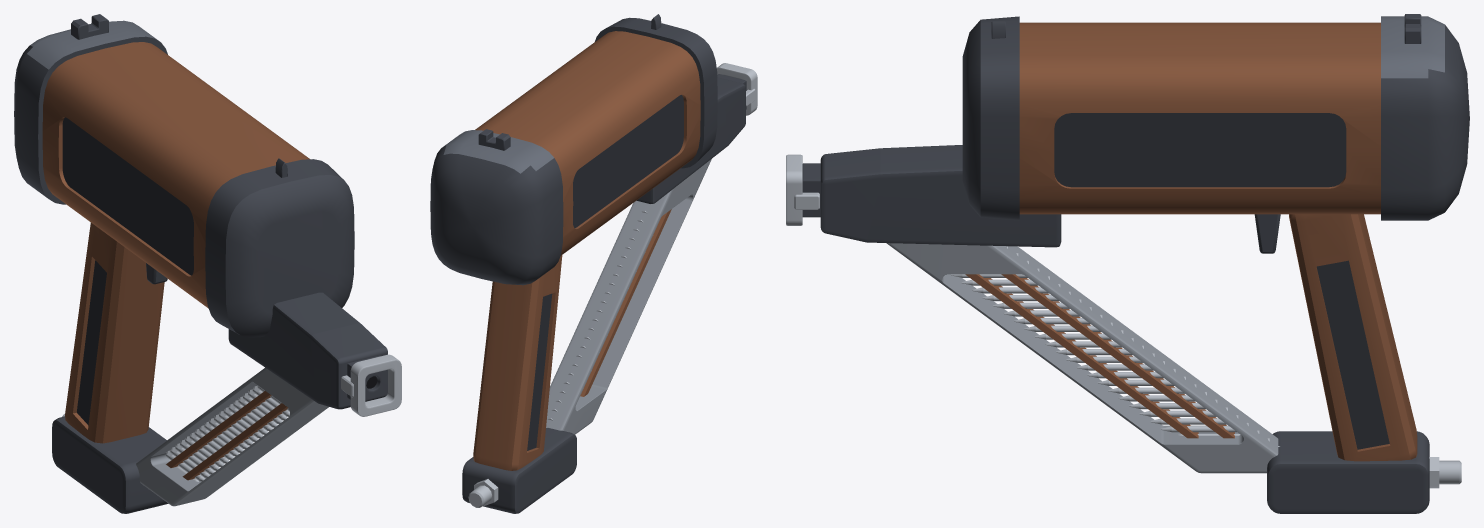
The model's file is w_nailgun.glb.
3 renders of one model, left to right at view 1: azimuth 30°, elevation 25°; view 2: azimuth 150°, elevation 25°; view 3: azimuth 270°, elevation 25°, orthographic. The views are drawn at different scales.
Visible parts, largest first — view 1: body_wzA__body__p86573d, body_wzB__frame__p444851, grip_wzA__body__p86573d, nose_wzB__frame__p444851, body_wzN__dark__p353840, magtrack_wzB__alu__p8e949d, foot_wzB__frame__p444851, cap_wzB__frame__p444851, mag_wzN__steel__pb5bbc4, tip_wzN__steel__pb5bbc4, cap_wzB__deck__p676d78, mag_wzN__body__p86573d (+2 smaller); view 2: body_wzA__body__p86573d, cap_wzB__frame__p444851, magtrack_wzB__alu__p8e949d, grip_wzA__body__p86573d, body_wzN__dark__p353840, foot_wzB__frame__p444851, body_wzB__frame__p444851, nose_wzB__frame__p444851, cap_wzB__deck__p676d78, grip_wzN__dark__p353840, mag_wzN__body__p86573d, tip_wzN__steel__pb5bbc4 (+2 smaller); view 3: body_wzA__body__p86573d, body_wzN__dark__p353840, magtrack_wzB__alu__p8e949d, nose_wzB__frame__p444851, grip_wzA__body__p86573d, cap_wzB__frame__p444851, body_wzB__frame__p444851, foot_wzB__frame__p444851, grip_wzN__dark__p353840, mag_wzN__steel__pb5bbc4, mag_wzN__body__p86573d, cap_wzB__deck__p676d78 (+4 smaller).
Boxes of the visible parts, x1,y1,x2,y2 form: body_wzA__body__p86573d: (42,42,309,308); body_wzB__frame__p444851: (205,159,354,337); grip_wzA__body__p86573d: (65,222,164,443); nose_wzB__frame__p444851: (228,292,387,409); body_wzN__dark__p353840: (62,117,193,275); magtrack_wzB__alu__p8e949d: (136,367,328,506); foot_wzB__frame__p444851: (52,416,168,513); cap_wzB__frame__p444851: (14,36,167,204); mag_wzN__steel__pb5bbc4: (166,385,289,481); tip_wzN__steel__pb5bbc4: (341,354,401,416); cap_wzB__deck__p676d78: (27,20,159,69); mag_wzN__body__p86573d: (166,391,287,480); body_wzA__body__p86573d: (475,31,700,255); cap_wzB__frame__p444851: (430,145,563,285); magtrack_wzB__alu__p8e949d: (546,159,711,434); grip_wzA__body__p86573d: (473,255,562,470); body_wzN__dark__p353840: (573,95,683,227); foot_wzB__frame__p444851: (462,427,576,513); body_wzB__frame__p444851: (595,17,717,168); nose_wzB__frame__p444851: (636,74,746,203); cap_wzB__deck__p676d78: (443,130,553,173); grip_wzN__dark__p353840: (527,293,552,450); mag_wzN__body__p86573d: (580,209,671,396); tip_wzN__steel__pb5bbc4: (716,63,757,115); body_wzA__body__p86573d: (1019,22,1380,214); body_wzN__dark__p353840: (1054,113,1346,187); magtrack_wzB__alu__p8e949d: (886,243,1278,473); nose_wzB__frame__p444851: (802,145,1061,247); grip_wzA__body__p86573d: (1289,214,1417,461); cap_wzB__frame__p444851: (1381,25,1469,220); body_wzB__frame__p444851: (962,16,1019,220); foot_wzB__frame__p444851: (1267,431,1429,513); grip_wzN__dark__p353840: (1316,260,1389,449); mag_wzN__steel__pb5bbc4: (951,246,1279,446); mag_wzN__body__p86573d: (965,274,1234,438); cap_wzB__deck__p676d78: (1381,16,1444,78).
Bounding box in the file's own units: 0.12 × 0.3794 × 0.492.
